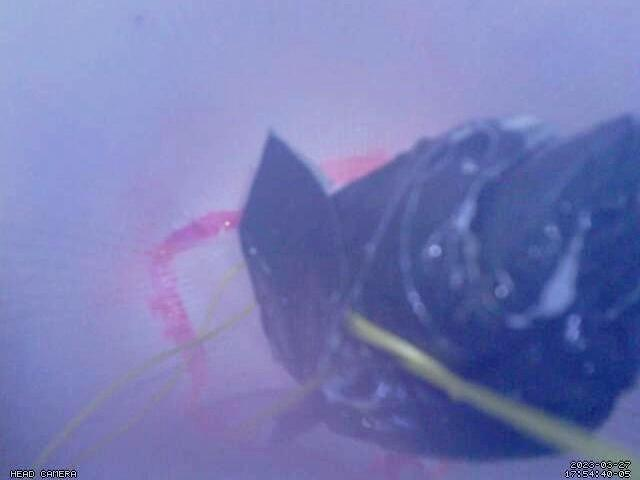head: (145, 154, 450, 477)
